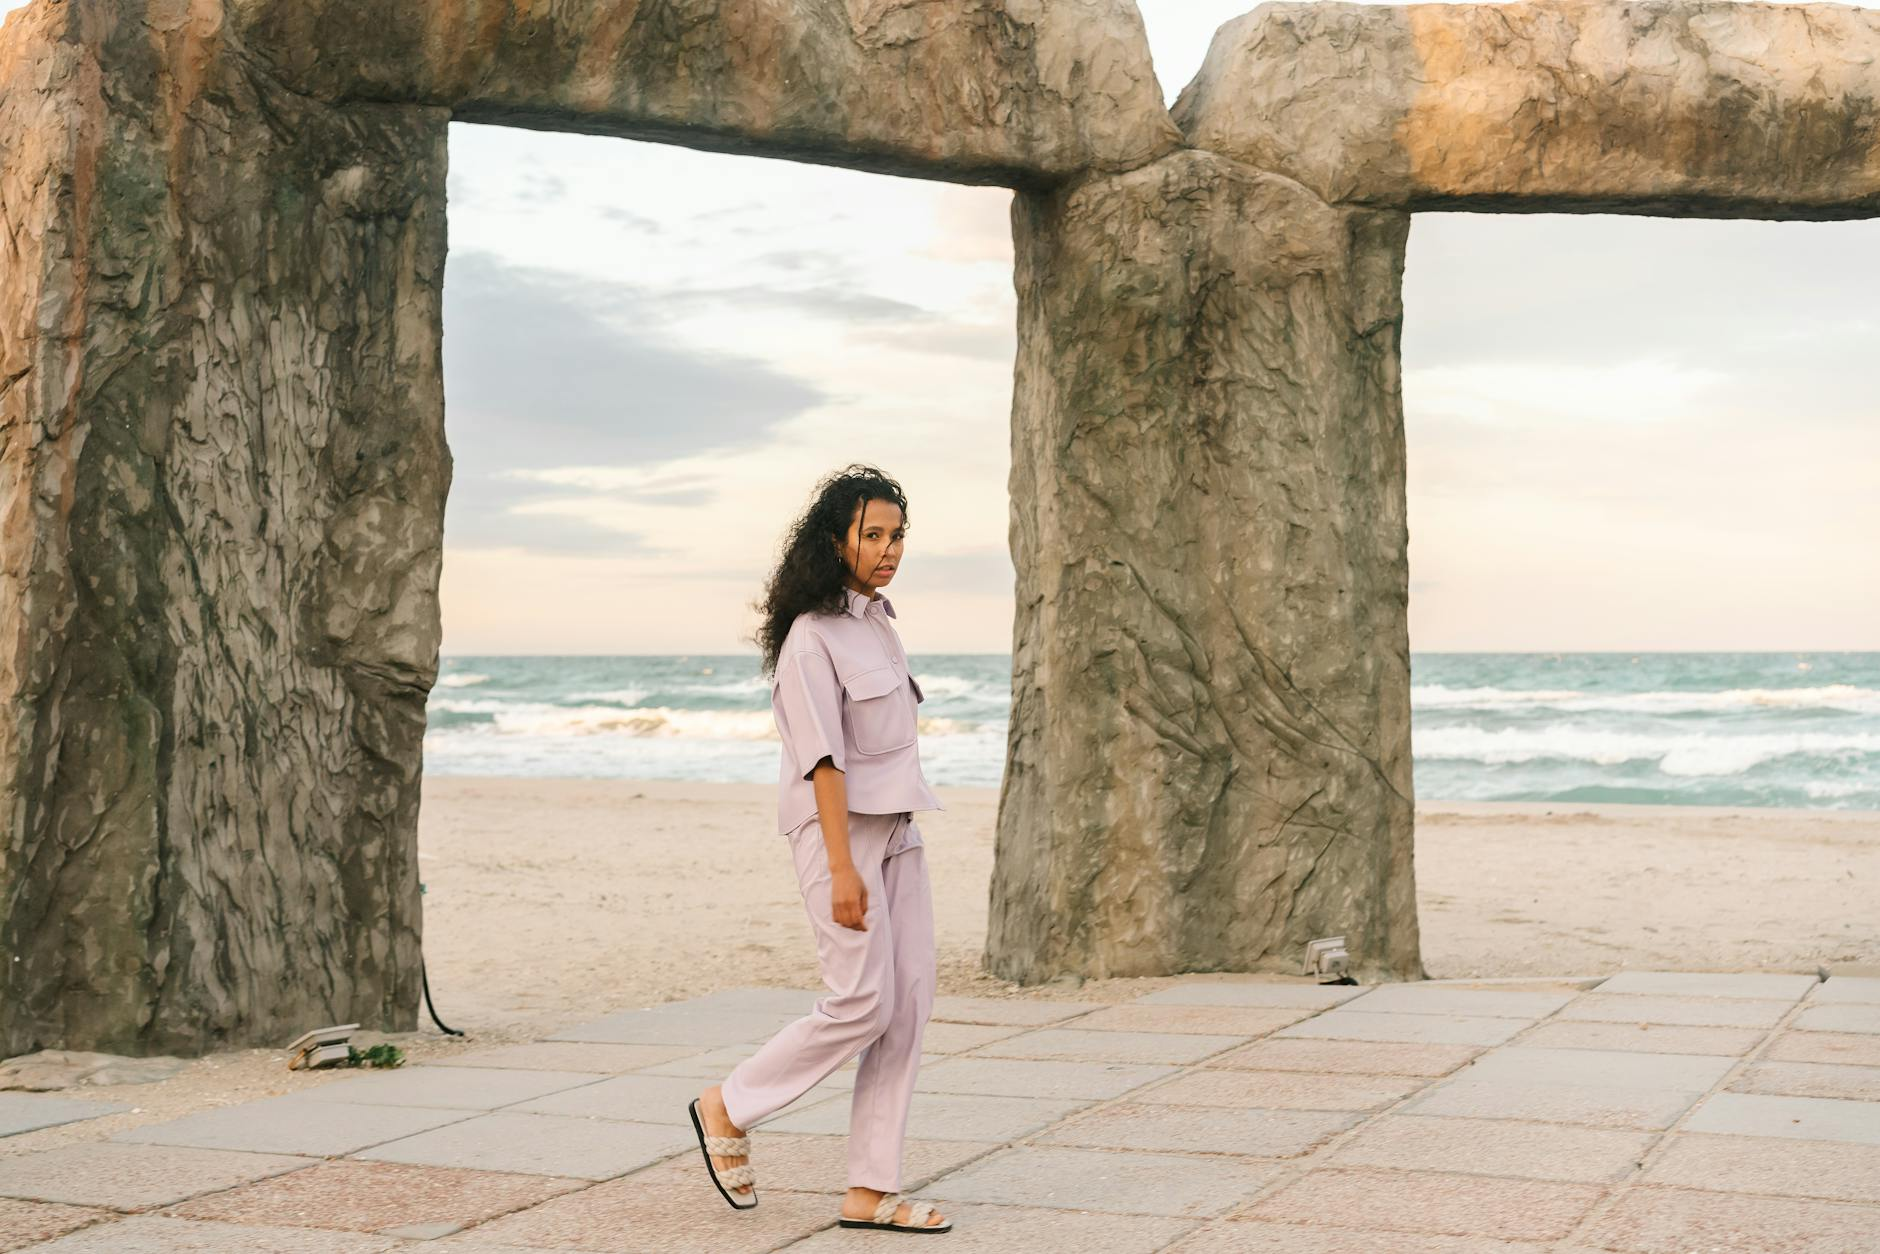opened_foot: (684, 1087, 769, 1208), (828, 1185, 960, 1240)
